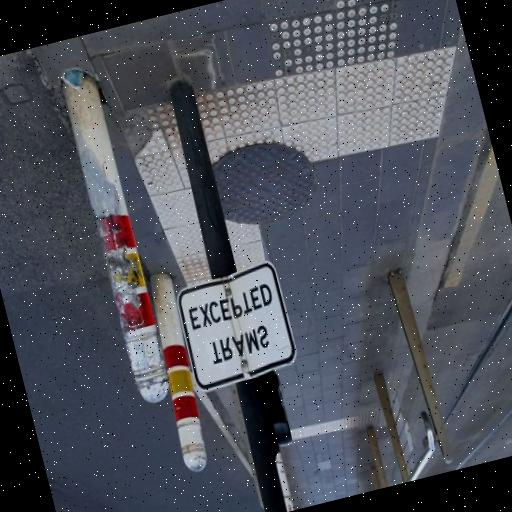Obstruction: (167, 85, 286, 506), (62, 87, 171, 405), (150, 278, 206, 477)
handrail: (367, 266, 448, 483)
signage: (178, 264, 299, 489)
tgsi: (134, 5, 457, 287), (291, 407, 378, 436)
